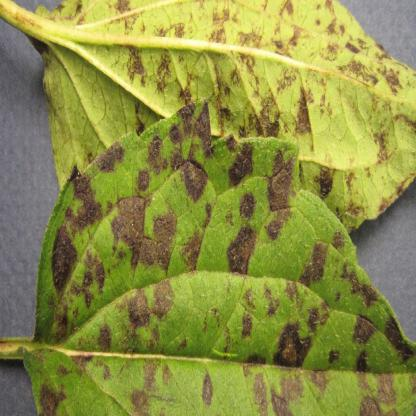tomato septoria leaf spot: (15, 114, 416, 415), (30, 3, 416, 241)
